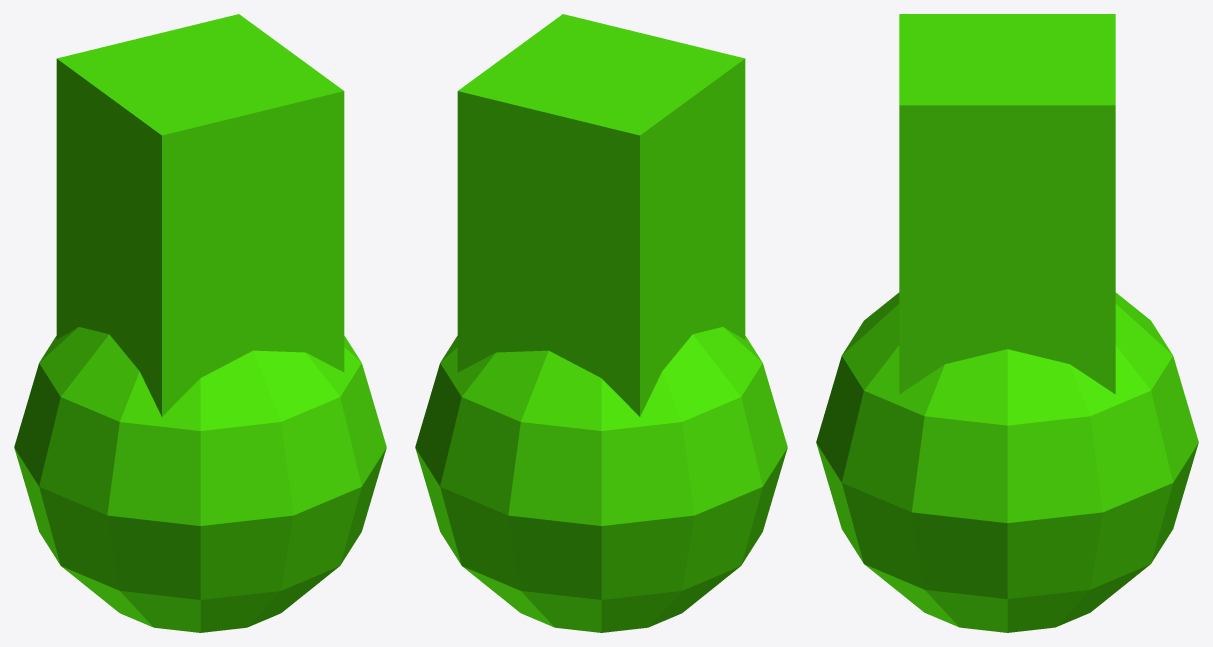
3 renders of one model, left to right at view 1: azimuth 30°, elevation 25°; view 2: azimuth 150°, elevation 25°; view 3: azimuth 270°, elevation 25°, orthographic. The views are drawn at different scales.
Parts seen in each view (by area): view 1: Cube; view 2: Cube; view 3: Cube.
Part boxes in pixels (x1,y1,x2,y2): Cube: [14, 14, 386, 632]; Cube: [415, 14, 787, 632]; Cube: [816, 14, 1198, 632].
Size of the model in its own units: 10 by 16.03 by 10.
